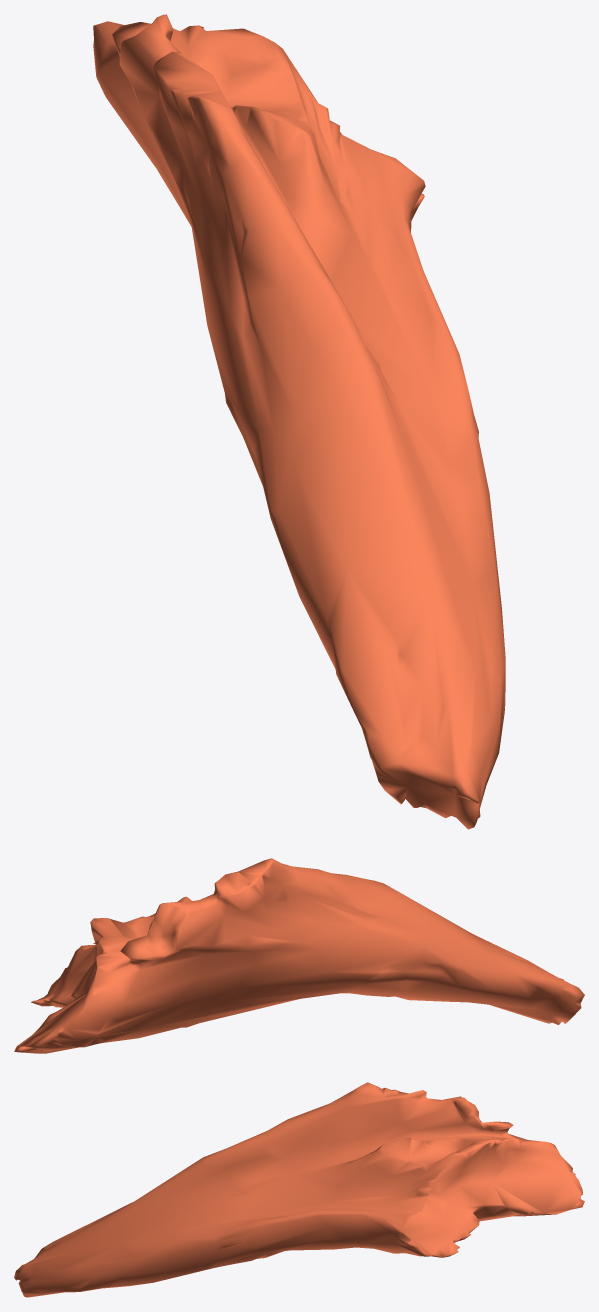
File: Adductor_hallucis_oblique_head_left.glb
3 views of the same model, one above another, from view 1: azimuth 30°, elevation 25°; view 2: azimuth 150°, elevation 25°; view 3: azimuth 270°, elevation 25° (orthographic). The views are drawn at different scales.
Visible parts, largest first — view 1: Oblique_head_of_adductor_hallucis.l_Generated_Mesh_From_X3D.; view 2: Oblique_head_of_adductor_hallucis.l_Generated_Mesh_From_X3D.; view 3: Oblique_head_of_adductor_hallucis.l_Generated_Mesh_From_X3D..
Part boxes in pixels (bbox=[...]): Oblique_head_of_adductor_hallucis.l_Generated_Mesh_From_X3D.: bbox=[93, 14, 505, 829]; Oblique_head_of_adductor_hallucis.l_Generated_Mesh_From_X3D.: bbox=[14, 858, 584, 1053]; Oblique_head_of_adductor_hallucis.l_Generated_Mesh_From_X3D.: bbox=[14, 1082, 584, 1297].
Bounding box in the file's own units: 0.028 × 0.0301 × 0.0669.
